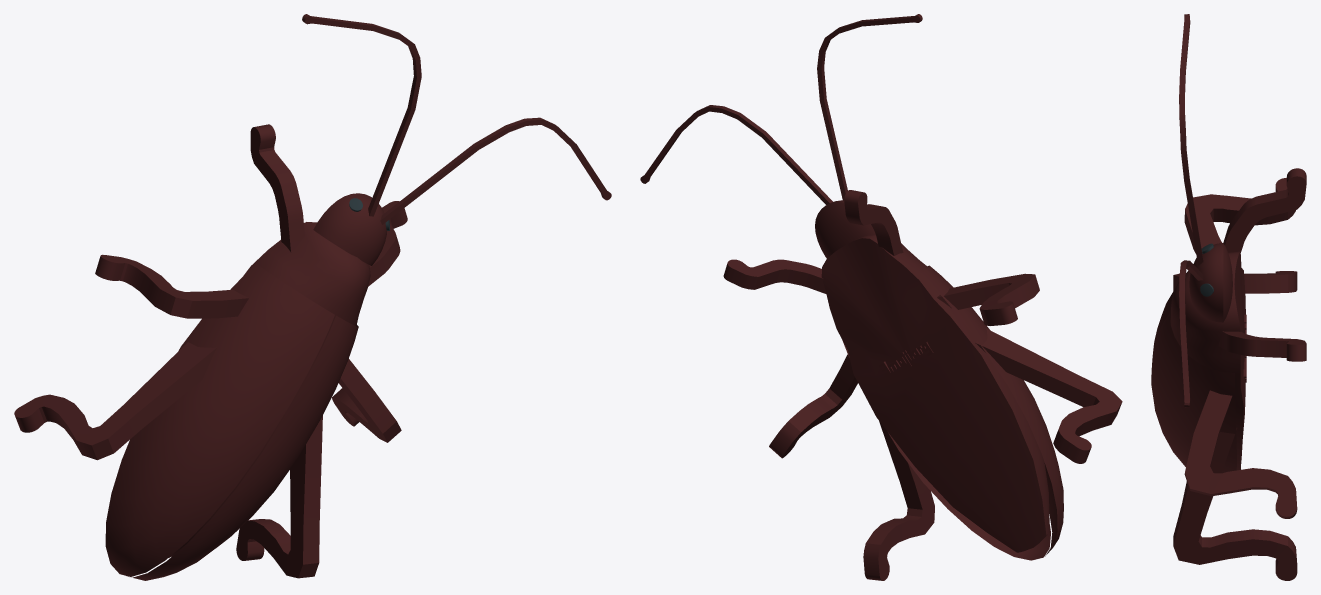
File: cockroach.gltf
3 views of the same model, side by side, from view 1: azimuth 30°, elevation 25°; view 2: azimuth 150°, elevation 25°; view 3: azimuth 270°, elevation 25° (orthographic). The views are drawn at different scales.
Parts seen in each view (by area): view 1: Cube.150; view 2: Cube.150; view 3: Cube.150.
Part boxes in pixels (<box>): Cube.150: <box>14,14,611,580</box>; Cube.150: <box>640,14,1122,580</box>; Cube.150: <box>1151,14,1306,580</box>.
Size of the model in its own units: 2.25 by 2.3 by 0.5722.
1 material, 1 textured.
